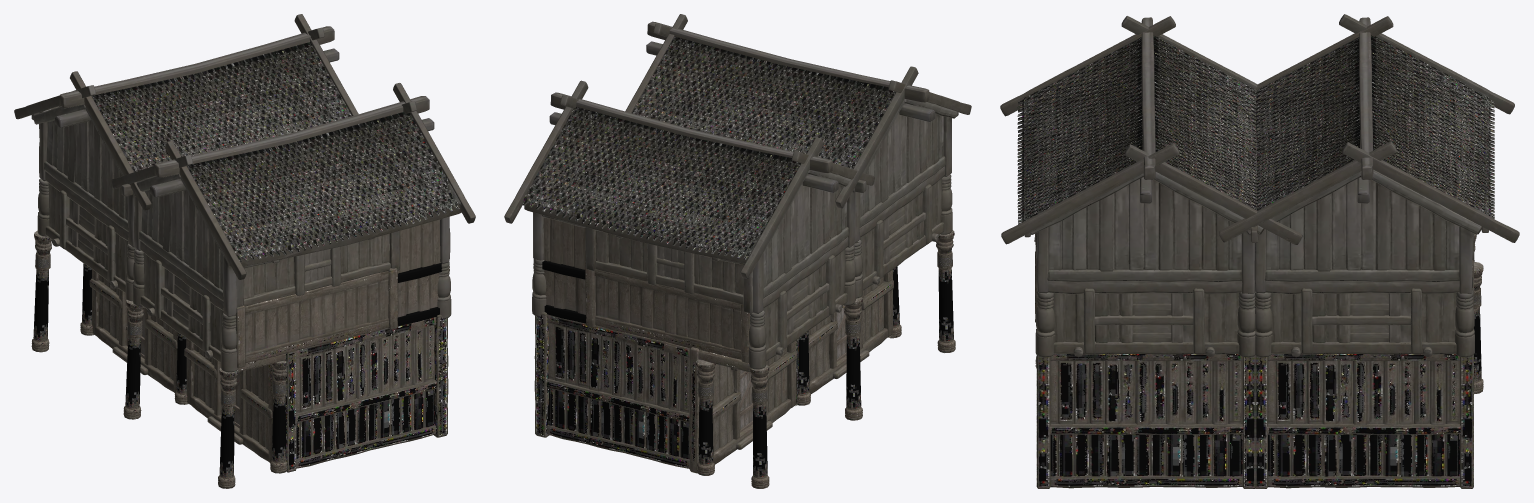
The model's file is build_barracks_01_low.glb.
3 renders of one model, left to right at view 1: azimuth 30°, elevation 25°; view 2: azimuth 150°, elevation 25°; view 3: azimuth 270°, elevation 25°, orthographic. The views are drawn at different scales.
Visible parts, largest first — view 1: build_barracks_01; view 2: build_barracks_01; view 3: build_barracks_01.
Boxes of the visible parts, x1,y1,x2,y2 form: build_barracks_01: (14,14,475,488); build_barracks_01: (504,14,971,488); build_barracks_01: (1000,14,1519,488).
Bounding box in the file's own units: 9.9 × 10.34 × 13.87.
2 materials, 2 textured.
